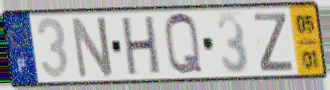3: (35, 15, 72, 83), (215, 11, 250, 76)
H: (120, 14, 162, 79)
N: (69, 14, 116, 81)
Q: (162, 11, 206, 79)
Z: (252, 11, 295, 73)
